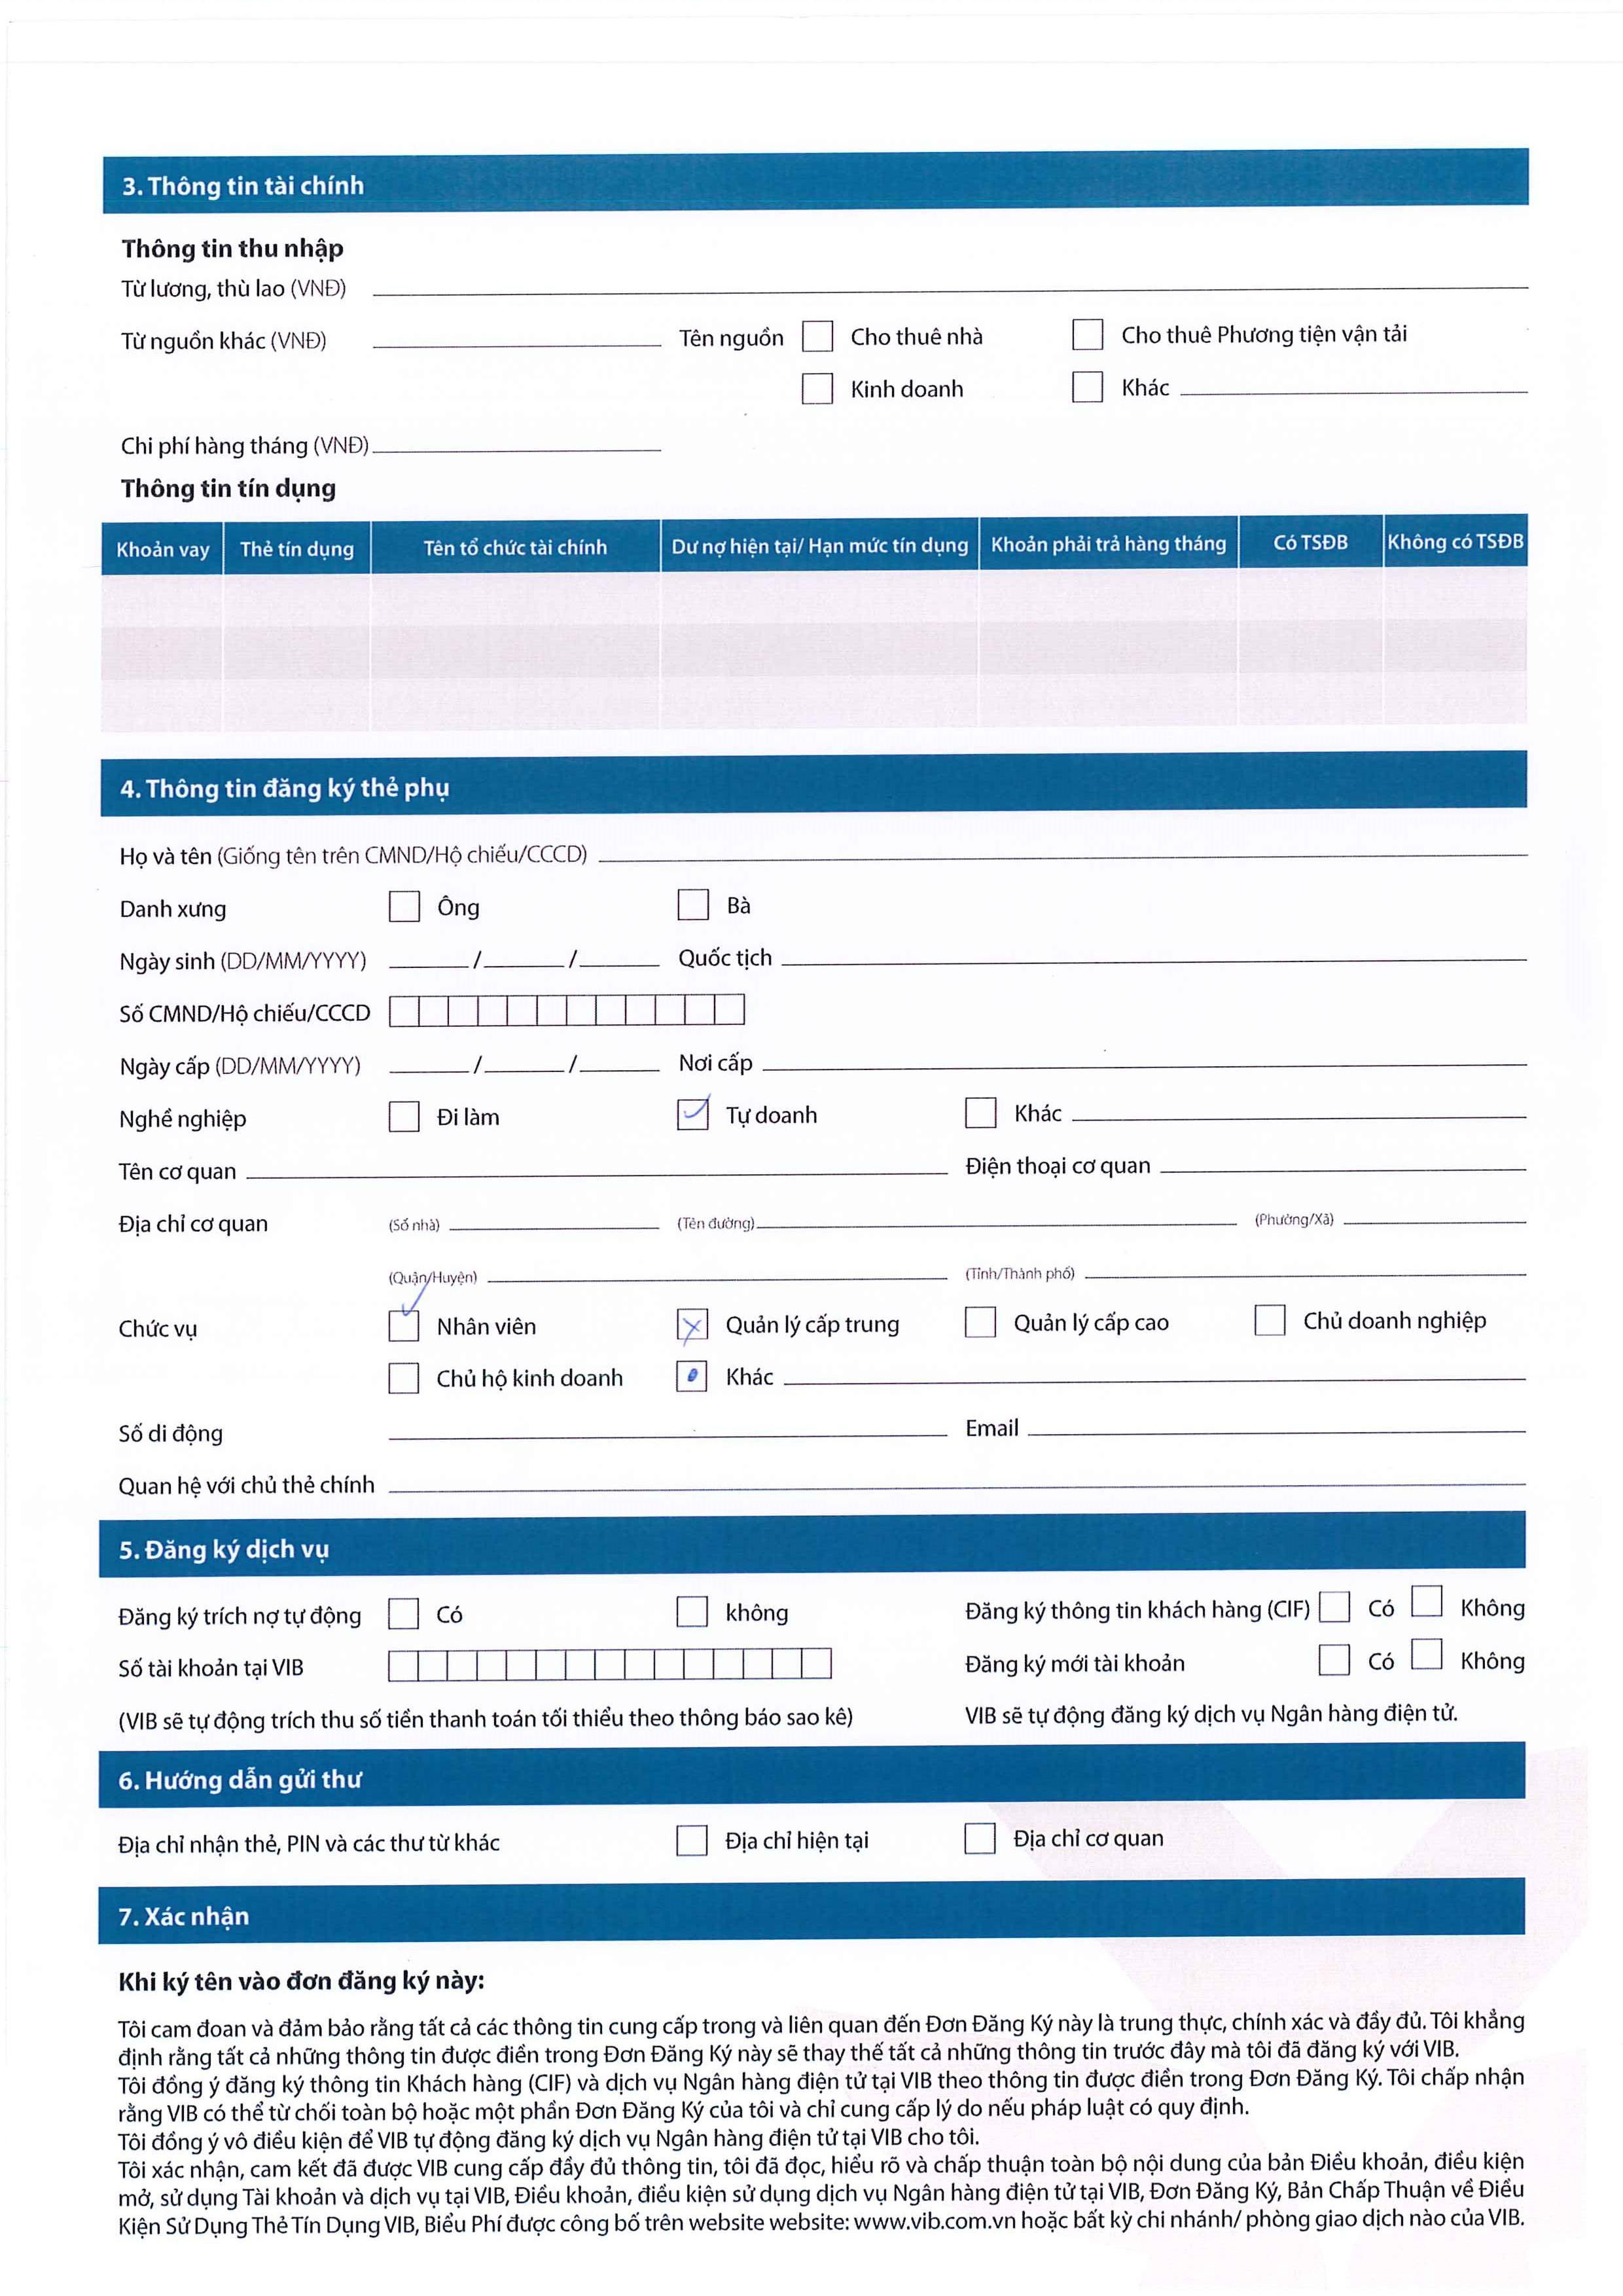g: (381, 1094, 427, 1144), (669, 878, 715, 926), (383, 1300, 429, 1347), (1405, 1630, 1451, 1678), (673, 1089, 717, 1137), (957, 1296, 1001, 1344), (1066, 311, 1110, 357), (383, 1595, 427, 1641), (673, 1818, 717, 1864), (961, 1089, 1003, 1137), (796, 313, 840, 357), (383, 885, 427, 929), (671, 1356, 715, 1400), (667, 1590, 711, 1634), (1312, 1639, 1358, 1681), (1247, 1300, 1289, 1344), (959, 1818, 1001, 1862), (1314, 1585, 1356, 1628), (1068, 362, 1108, 408), (381, 1358, 423, 1400), (1405, 1578, 1447, 1620), (799, 367, 840, 409), (673, 1303, 710, 1344)
